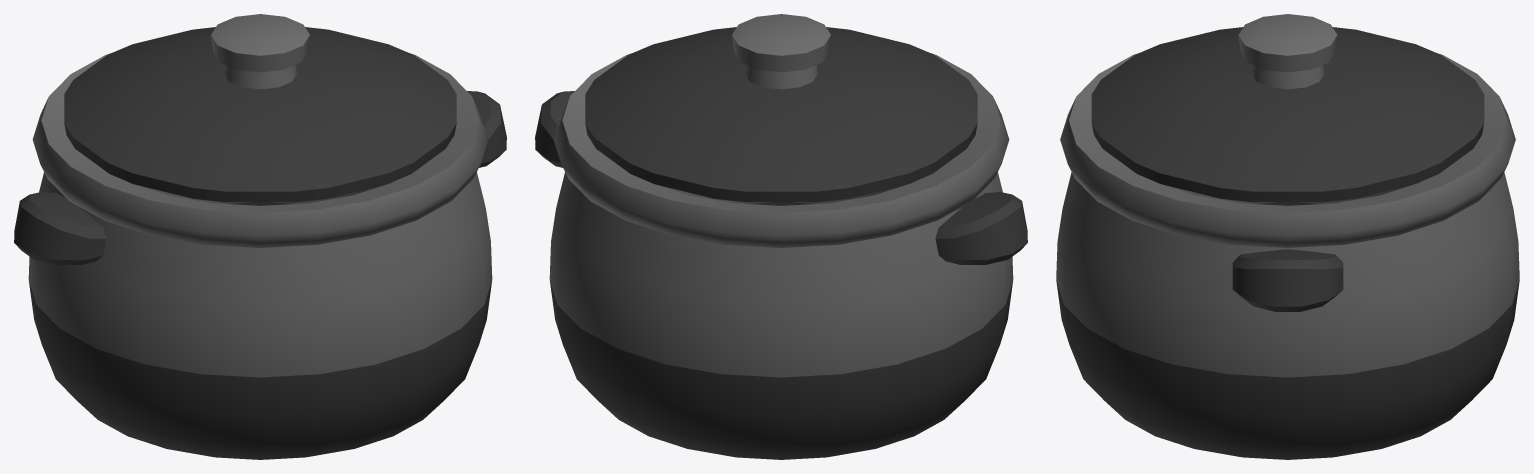
File: Stock_Pot_02.fbx
3 views of the same model, side by side, from view 1: azimuth 30°, elevation 25°; view 2: azimuth 150°, elevation 25°; view 3: azimuth 270°, elevation 25° (orthographic).
Visible parts, largest first — view 1: Stock_Pot_02, Stock_Pot_02_Lid; view 2: Stock_Pot_02, Stock_Pot_02_Lid; view 3: Stock_Pot_02, Stock_Pot_02_Lid.
Part boxes in pixels (x1,y1,x2,y2): Stock_Pot_02: (14, 53, 506, 459); Stock_Pot_02_Lid: (64, 14, 456, 202); Stock_Pot_02: (535, 53, 1027, 459); Stock_Pot_02_Lid: (585, 14, 977, 202); Stock_Pot_02: (1056, 53, 1519, 459); Stock_Pot_02_Lid: (1091, 14, 1484, 202).
Bounding box in the file's own units: 99.08 × 71.31 × 83.23.
